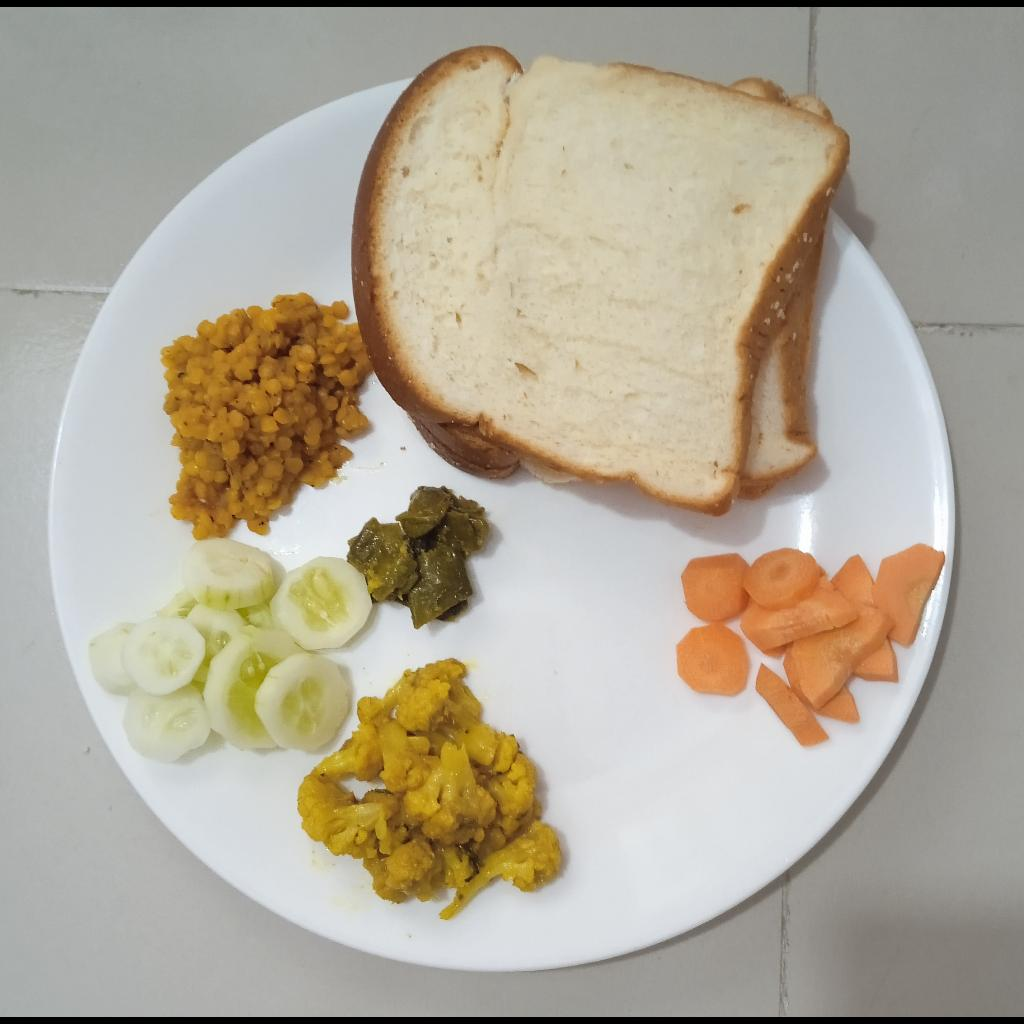bread: (351, 45, 852, 517)
carrot: (675, 542, 946, 748)
cauliflower: (296, 658, 560, 923)
cucumber: (90, 537, 376, 762)
daal: (159, 294, 374, 539)
shim: (347, 484, 489, 632)
